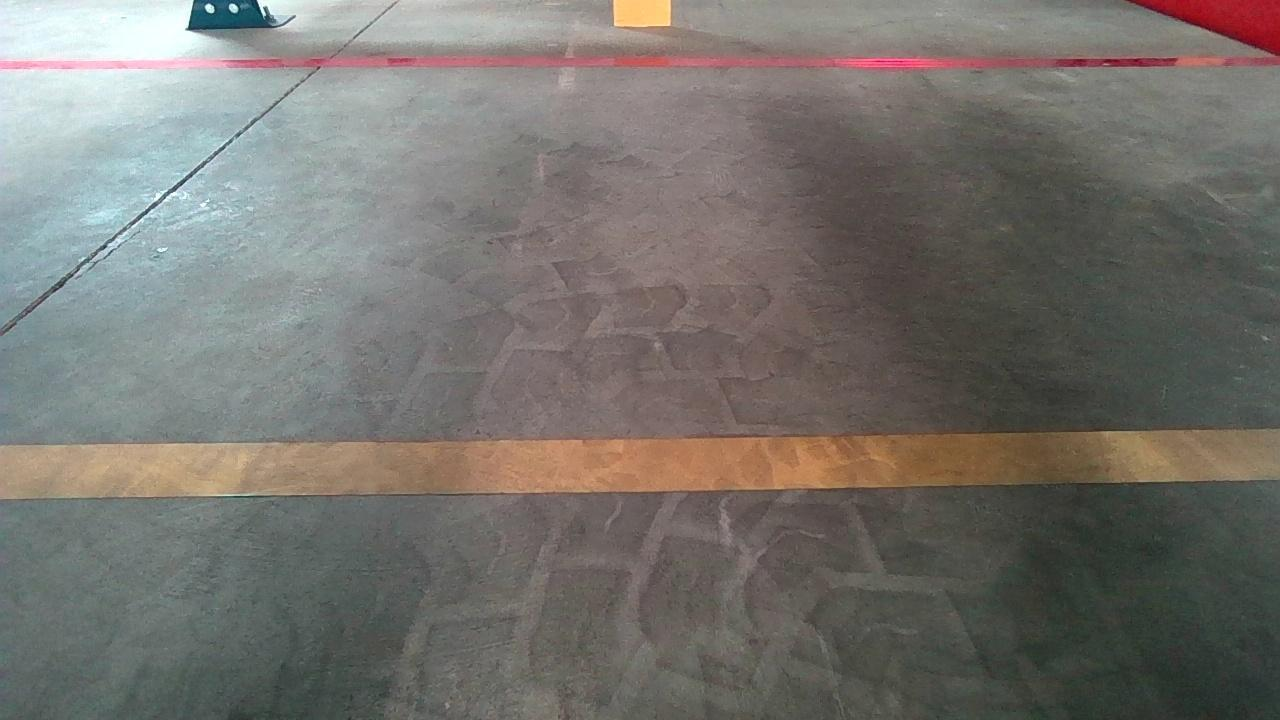red_line: (5, 48, 1280, 77)
yellow_line: (0, 425, 1274, 501)
